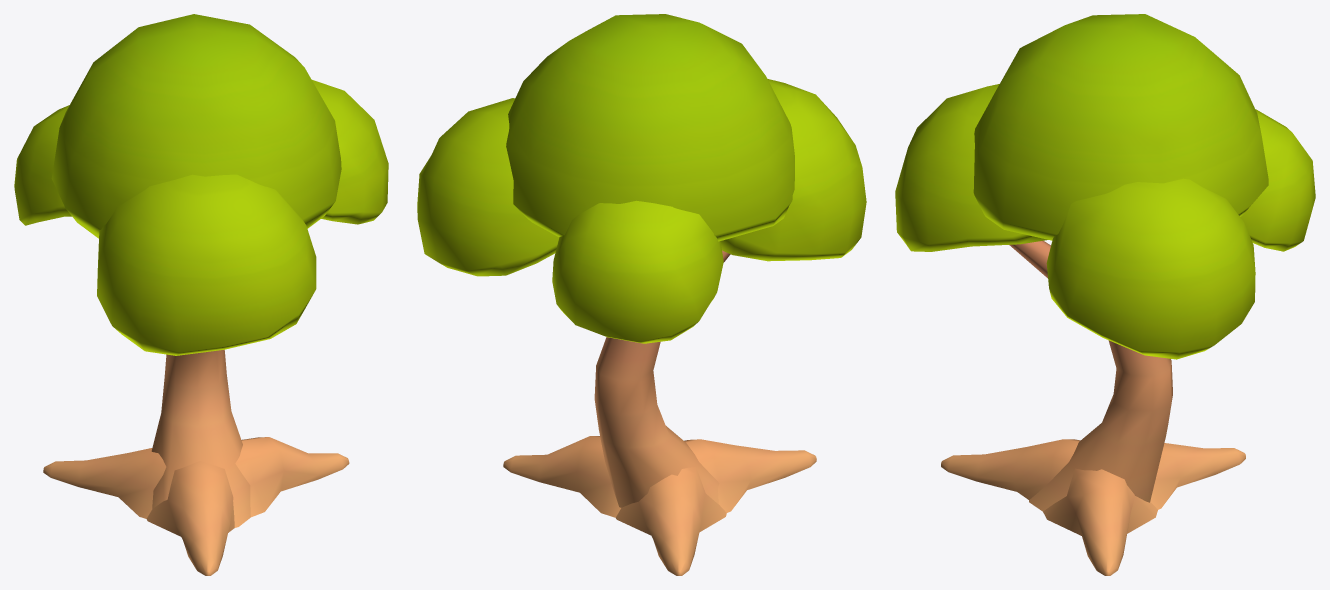
File: Tree8.FBX
3 views of the same model, side by side, from view 1: azimuth 30°, elevation 25°; view 2: azimuth 150°, elevation 25°; view 3: azimuth 270°, elevation 25° (orthographic). The views are drawn at different scales.
Parts seen in each view (by area): view 1: Tree8; view 2: Tree8; view 3: Tree8.
Boxes of the visible parts, x1,y1,x2,y2 form: Tree8: [14, 14, 388, 575]; Tree8: [417, 14, 866, 575]; Tree8: [895, 14, 1315, 575].
Size of the model in its own units: 394 by 522 by 417.
